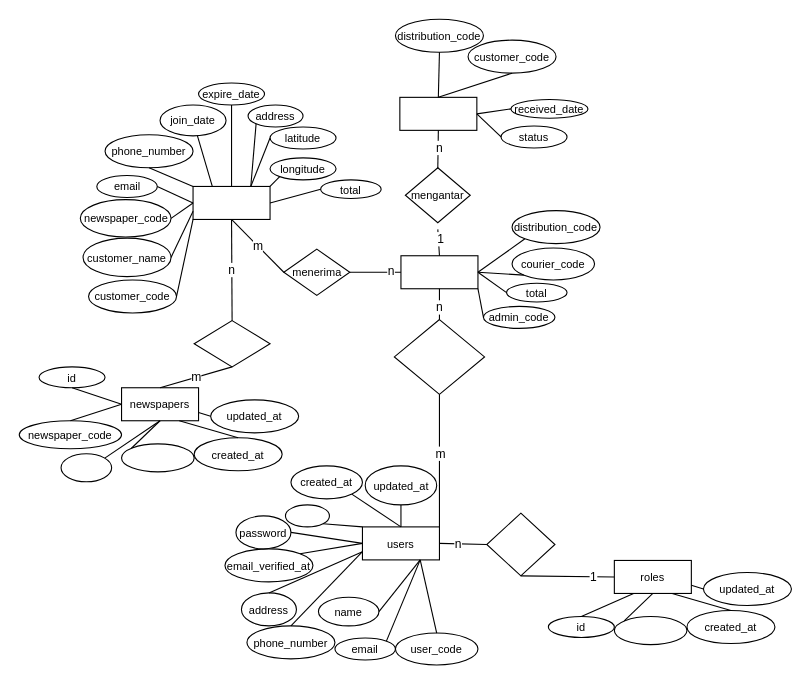
Image size: 811x684. Some labels were removed from this diagram. Here are the shapes that lost their labels. From the top down, the centre of each, then its label:
At point (438, 113): "user distribution".
At point (231, 202): "customers".
At point (439, 272): "distributions".
At point (231, 343): "langganan".
At point (439, 356): "mengelola".
At point (86, 467): "edition".
At point (157, 457): "description".
At point (306, 515): "role_id".
At point (520, 544): "digunakan".
At point (650, 630): "role_name".
